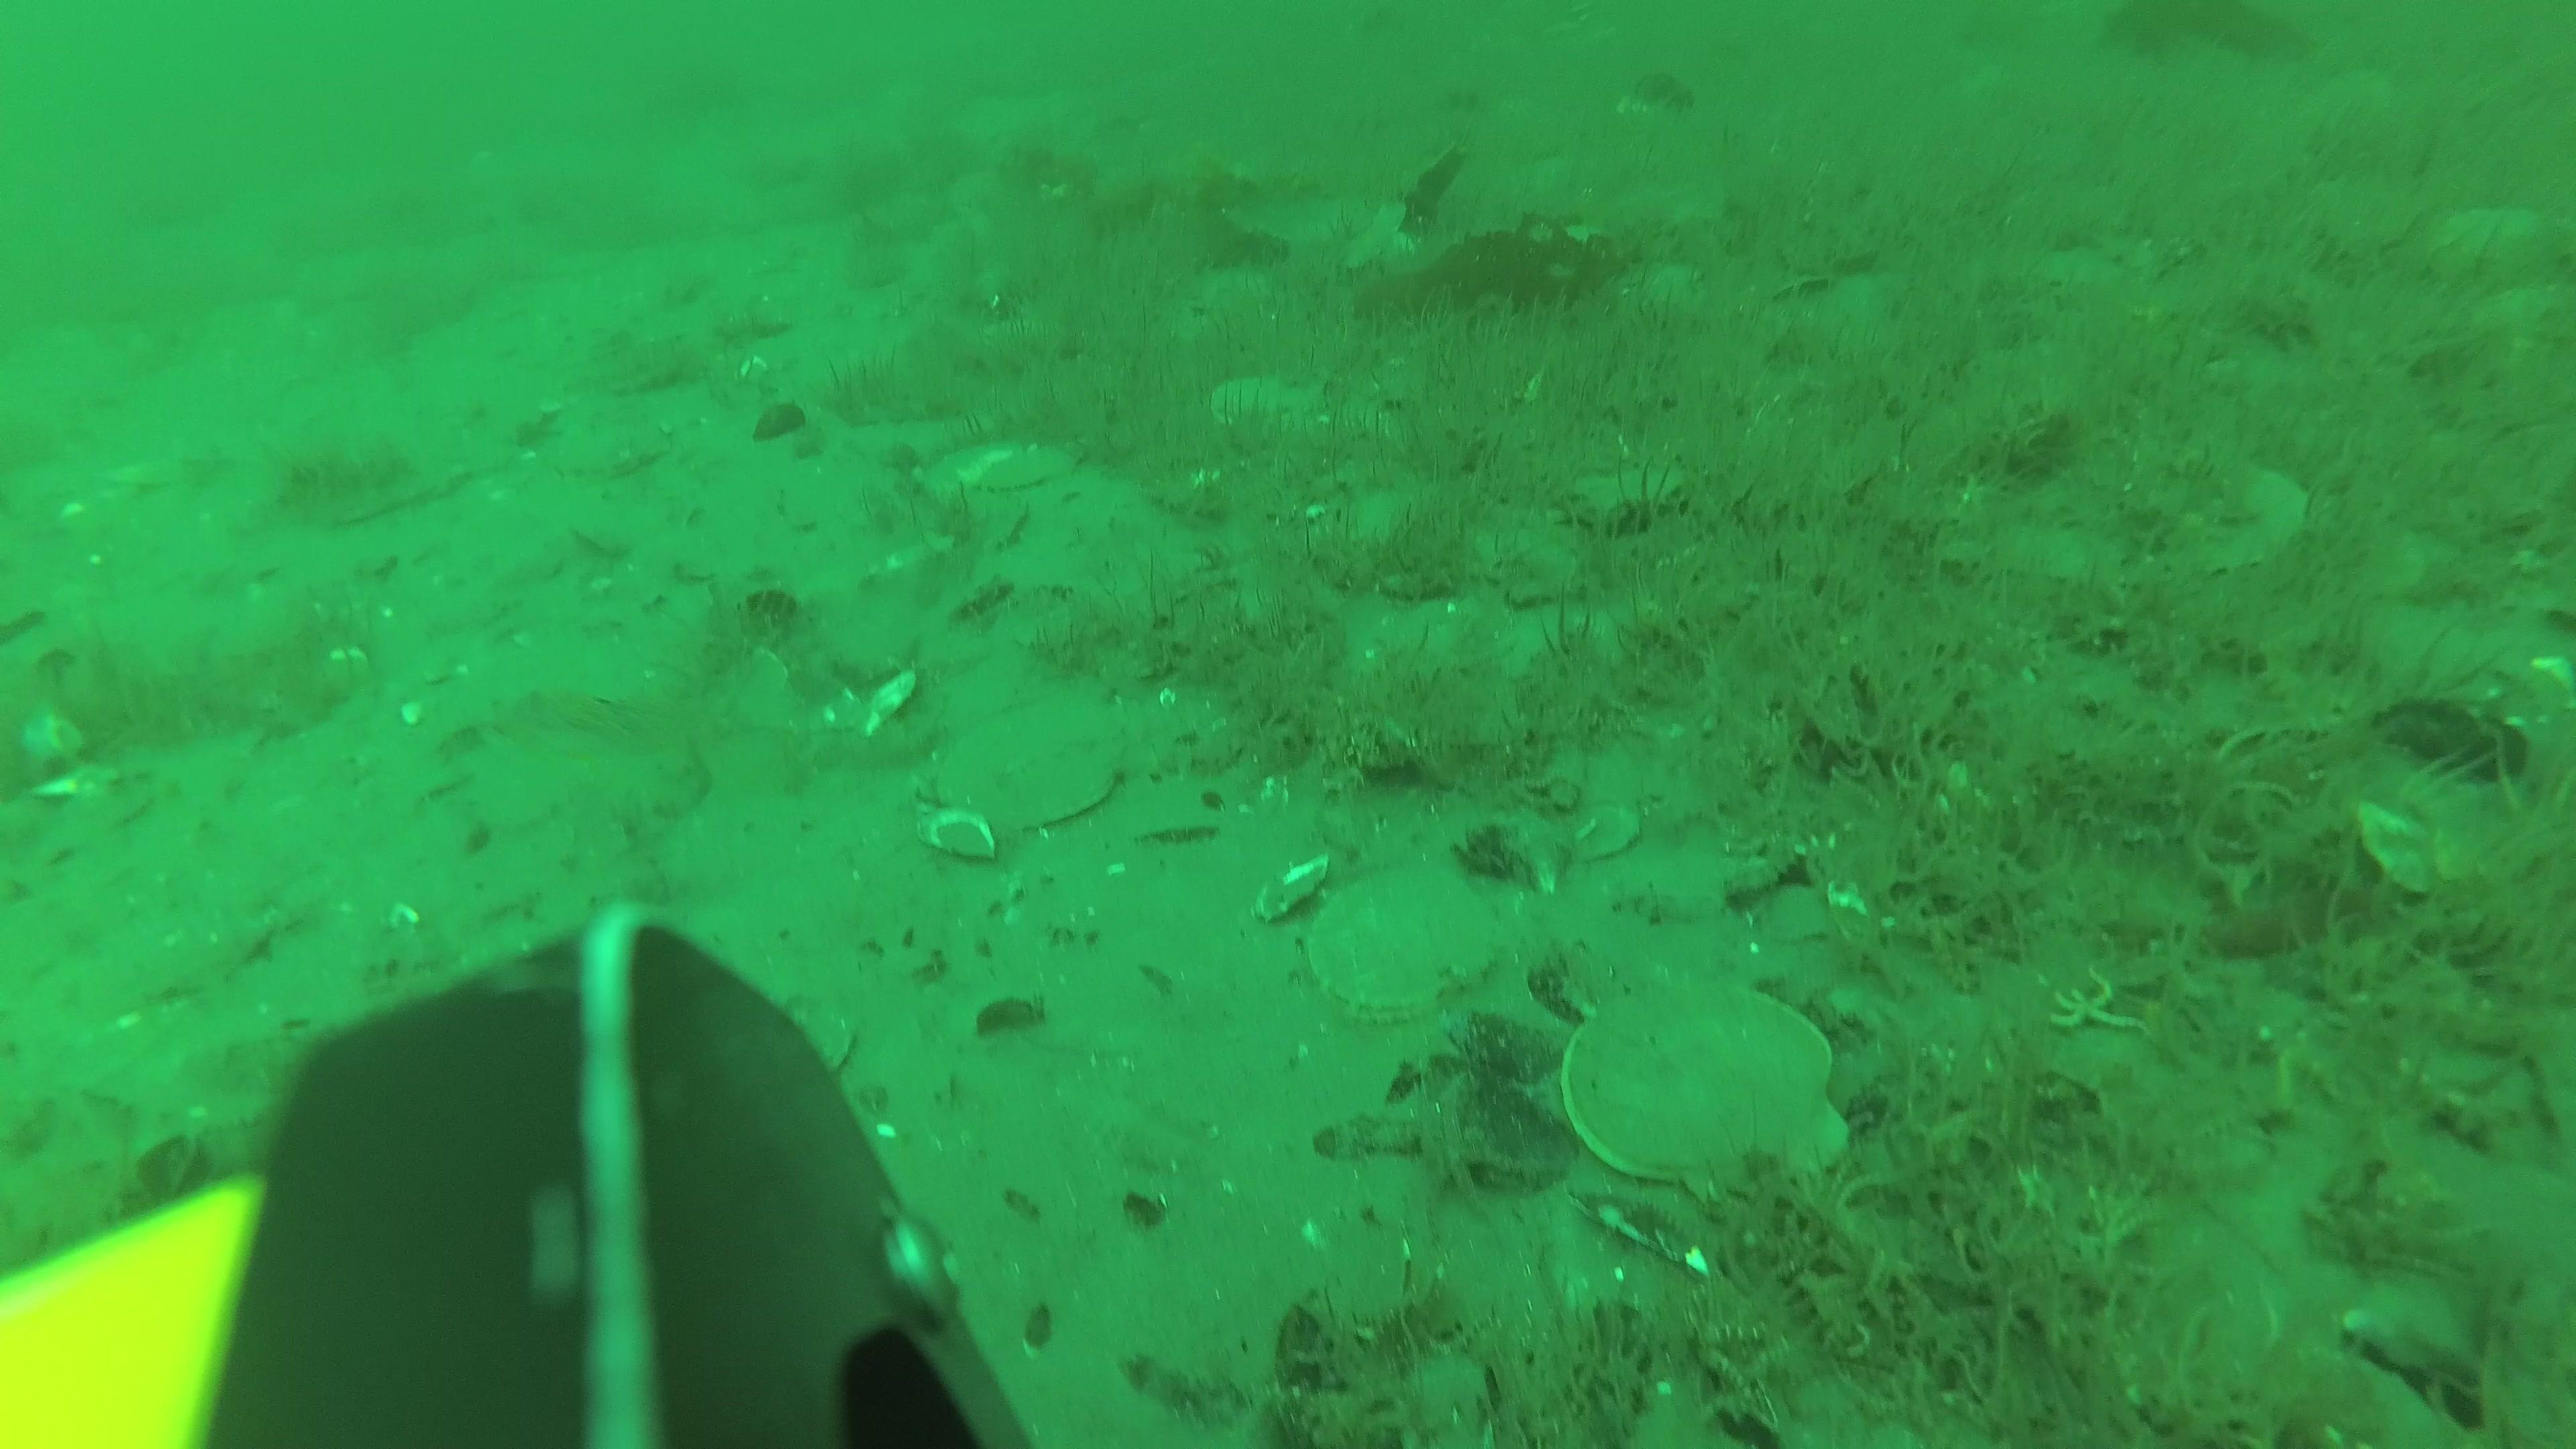scallop: (1566, 991, 1852, 1200), (1311, 867, 1497, 1019), (936, 697, 1129, 830), (2130, 465, 2309, 582), (550, 418, 667, 479), (1210, 372, 1313, 437), (993, 448, 1074, 490), (947, 439, 1008, 478)
